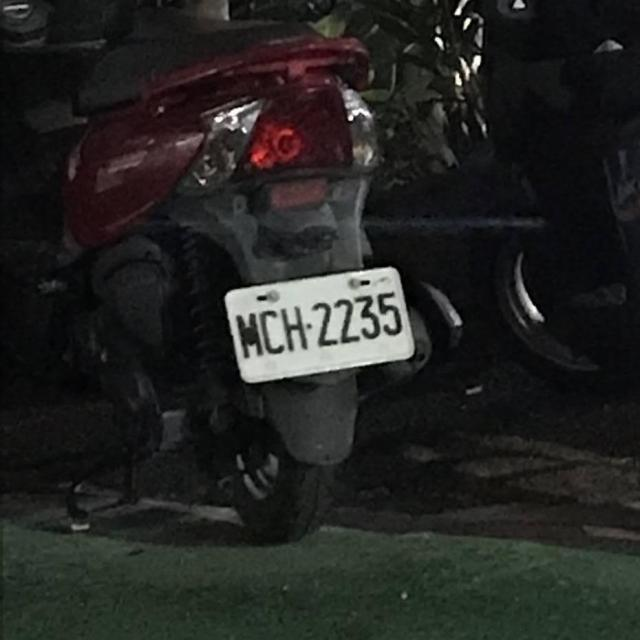W: (218, 256, 419, 389)
